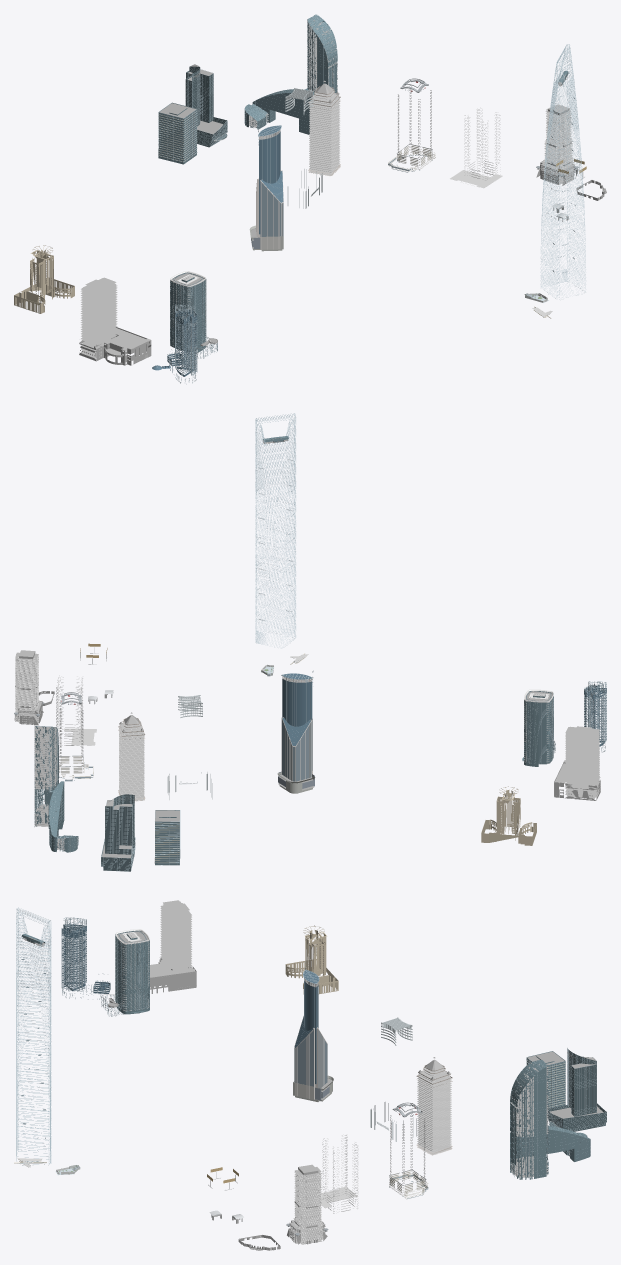
The model's file is lujiazui-2.glb.
3 renders of one model, top to bottom at view 1: azimuth 30°, elevation 25°; view 2: azimuth 150°, elevation 25°; view 3: azimuth 270°, elevation 25°, orthographic. The views are drawn at different scales.
Visible parts, largest first — view 1: source_2457_Mat3d66-1303573-2119-613_part0, source_2515_Mat3d66-1303573-2120-8235_part0, source_2712_香格里拉酒店1_楼板_part0, source_2703_Mat3d66-1303573-2170-3213_part0, source_2742_Mat3d66-1303573-217-7508_part0, source_2737_周围建筑-黄色石才_part0, source_2701_Mat3d66-1303573-2120-8235_part0, source_2517_Mat3d66-1303573-2166-1518_part0, source_2529_Mat3d66-1303573-2120-8235_part0, source_2706_Mat3d66-1303573-244-8902_part0, source_2752_新上海国际_楼板_part0, source_2692_Mat3d66-1303573-2170-3213_part0 (+13 smaller); view 2: source_2457_Mat3d66-1303573-2119-613_part0, source_2703_Mat3d66-1303573-2170-3213_part0, source_2712_香格里拉酒店1_楼板_part0, source_2515_Mat3d66-1303573-2120-8235_part0, source_2517_Mat3d66-1303573-2166-1518_part0, source_2701_Mat3d66-1303573-2120-8235_part0, source_2742_Mat3d66-1303573-217-7508_part0, source_2737_周围建筑-黄色石才_part0, source_2514_Mat3d66-1303573-2153-4388_part0, source_2706_Mat3d66-1303573-244-8902_part0, source_2752_新上海国际_楼板_part0, source_2524_Mat3d66-1303573-2110-2540_part0 (+9 smaller); view 3: source_2457_Mat3d66-1303573-2119-613_part0, source_2515_Mat3d66-1303573-2120-8235_part0, source_2742_Mat3d66-1303573-217-7508_part0, source_2701_Mat3d66-1303573-2120-8235_part0, source_2703_Mat3d66-1303573-2170-3213_part0, source_2517_Mat3d66-1303573-2166-1518_part0, source_2712_香格里拉酒店1_楼板_part0, source_2706_Mat3d66-1303573-244-8902_part0, source_2752_新上海国际_楼板_part0, source_2692_Mat3d66-1303573-2170-3213_part0, source_2737_周围建筑-黄色石才_part0, source_2524_Mat3d66-1303573-2110-2540_part0 (+13 smaller).
Boxes of the visible parts, <box> form: source_2457_Mat3d66-1303573-2119-613_part0: <box>540,44,585,299</box>; source_2515_Mat3d66-1303573-2120-8235_part0: <box>244,14,337,134</box>; source_2712_香格里拉酒店1_楼板_part0: <box>80,277,150,357</box>; source_2703_Mat3d66-1303573-2170-3213_part0: <box>258,125,283,236</box>; source_2742_Mat3d66-1303573-217-7508_part0: <box>309,90,339,175</box>; source_2737_周围建筑-黄色石才_part0: <box>14,245,74,313</box>; source_2701_Mat3d66-1303573-2120-8235_part0: <box>170,272,206,352</box>; source_2517_Mat3d66-1303573-2166-1518_part0: <box>185,66,227,147</box>; source_2529_Mat3d66-1303573-2120-8235_part0: <box>158,103,196,164</box>; source_2706_Mat3d66-1303573-244-8902_part0: <box>256,130,283,249</box>; source_2752_新上海国际_楼板_part0: <box>541,108,574,184</box>; source_2692_Mat3d66-1303573-2170-3213_part0: <box>152,309,197,376</box>; source_2457_Mat3d66-1303573-2119-613_part0: <box>255,413,300,662</box>; source_2703_Mat3d66-1303573-2170-3213_part0: <box>282,673,312,781</box>; source_2712_香格里拉酒店1_楼板_part0: <box>554,726,599,798</box>; source_2515_Mat3d66-1303573-2120-8235_part0: <box>34,726,78,852</box>; source_2517_Mat3d66-1303573-2166-1518_part0: <box>101,794,135,871</box>; source_2701_Mat3d66-1303573-2120-8235_part0: <box>522,691,553,766</box>; source_2742_Mat3d66-1303573-217-7508_part0: <box>119,721,144,800</box>; source_2737_周围建筑-黄色石才_part0: <box>481,786,536,845</box>; source_2514_Mat3d66-1303573-2153-4388_part0: <box>34,726,78,850</box>; source_2706_Mat3d66-1303573-244-8902_part0: <box>281,676,312,781</box>; source_2752_新上海国际_楼板_part0: <box>15,652,41,724</box>; source_2524_Mat3d66-1303573-2110-2540_part0: <box>101,794,135,871</box>; source_2457_Mat3d66-1303573-2119-613_part0: <box>16,907,51,1165</box>; source_2515_Mat3d66-1303573-2120-8235_part0: <box>510,1060,590,1179</box>; source_2742_Mat3d66-1303573-217-7508_part0: <box>417,1068,451,1154</box>; source_2701_Mat3d66-1303573-2120-8235_part0: <box>115,930,149,1014</box>; source_2703_Mat3d66-1303573-2170-3213_part0: <box>294,970,327,1087</box>; source_2517_Mat3d66-1303573-2166-1518_part0: <box>547,1050,606,1131</box>; source_2712_香格里拉酒店1_楼板_part0: <box>150,900,195,978</box>; source_2706_Mat3d66-1303573-244-8902_part0: <box>294,978,327,1099</box>; source_2752_新上海国际_楼板_part0: <box>290,1167,324,1244</box>; source_2692_Mat3d66-1303573-2170-3213_part0: <box>61,924,110,993</box>; source_2737_周围建筑-黄色石才_part0: <box>285,925,338,994</box>; source_2524_Mat3d66-1303573-2110-2540_part0: <box>547,1048,606,1131</box>.
Size of the model in its own units: 1141 by 493 by 1012.
